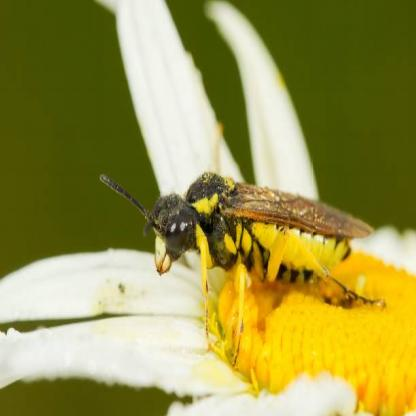sawfly: (97, 150, 388, 374)
